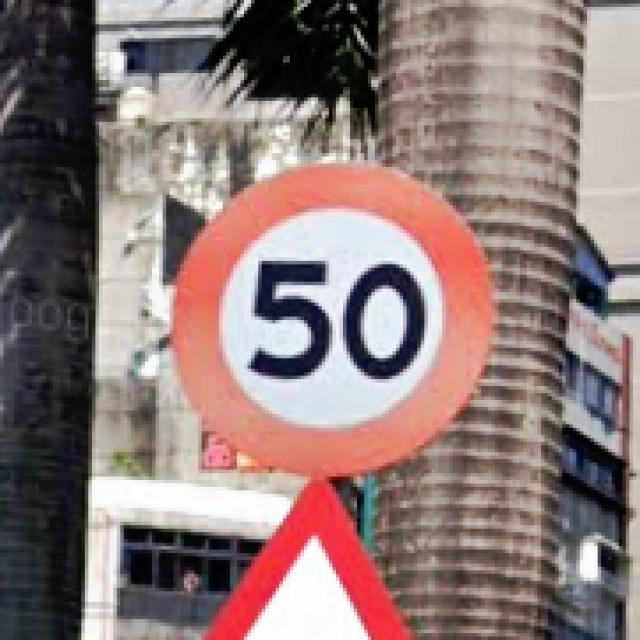max50: (166, 156, 495, 476)
